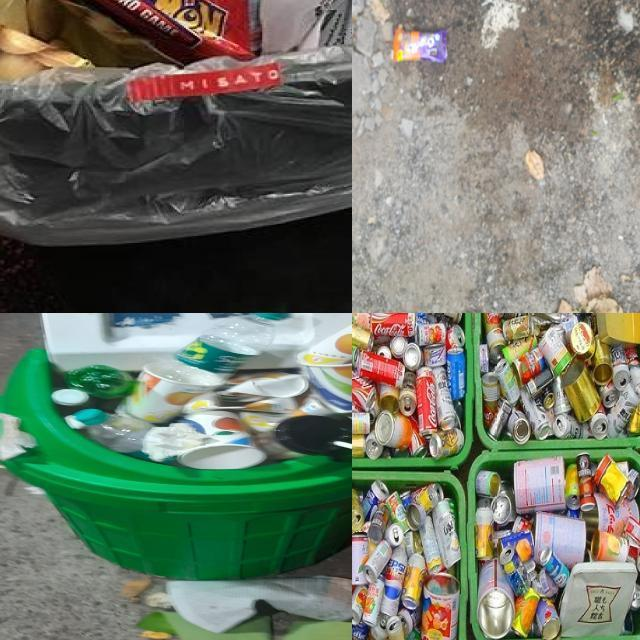Background: (352, 0, 640, 313)
Disposable: (251, 415, 352, 460)
Garbage: (352, 313, 640, 640), (31, 313, 352, 470)
Plastic: (352, 313, 474, 469), (50, 389, 88, 405)
Plastic_Straw: (331, 441, 352, 449)
Plastic_bottle: (155, 313, 290, 386), (71, 410, 159, 462), (65, 365, 136, 399)
Plastic_wraper: (85, 0, 253, 63), (239, 396, 334, 433), (393, 28, 446, 63), (248, 400, 272, 407), (266, 474, 272, 476)
Tin_box: (534, 511, 586, 568), (513, 456, 565, 512), (423, 573, 460, 640), (583, 493, 639, 535), (563, 360, 601, 421), (594, 454, 632, 507), (538, 327, 572, 376), (375, 411, 412, 449), (596, 313, 640, 344), (512, 587, 539, 635), (513, 347, 546, 385), (482, 313, 507, 363), (498, 530, 534, 560), (502, 335, 537, 364), (385, 491, 409, 533), (593, 335, 613, 385), (569, 321, 595, 356), (352, 534, 368, 584), (475, 470, 500, 498), (379, 382, 400, 412), (407, 501, 426, 530), (424, 345, 446, 367), (389, 335, 408, 360), (625, 515, 640, 546), (479, 343, 489, 374), (352, 313, 371, 328)
can: (476, 558, 515, 638), (431, 499, 461, 569), (381, 544, 408, 615), (358, 349, 405, 387), (608, 382, 640, 436), (520, 386, 552, 439), (415, 368, 438, 437), (433, 366, 456, 431), (419, 515, 444, 573), (500, 546, 530, 594), (401, 552, 426, 609), (494, 357, 520, 405), (363, 540, 392, 583), (539, 546, 569, 587), (590, 530, 628, 562), (362, 478, 389, 520), (576, 452, 595, 511), (535, 597, 561, 640), (371, 313, 416, 337), (362, 579, 385, 625), (352, 370, 377, 411), (429, 429, 464, 458), (482, 372, 500, 428), (475, 507, 493, 560), (610, 343, 630, 390), (412, 483, 444, 512), (448, 347, 465, 401), (552, 415, 590, 439), (491, 489, 516, 525), (508, 409, 531, 444), (399, 370, 416, 417), (368, 505, 389, 543), (502, 314, 531, 341), (408, 417, 427, 458), (553, 376, 572, 414), (416, 323, 446, 347), (399, 606, 421, 635), (565, 464, 579, 509), (352, 322, 374, 350), (599, 380, 619, 409), (352, 585, 367, 623), (590, 407, 608, 438), (364, 431, 383, 459), (403, 343, 422, 371), (352, 490, 364, 532), (386, 616, 406, 640), (385, 522, 404, 547), (371, 614, 389, 640), (446, 325, 465, 349), (352, 411, 370, 433), (631, 357, 640, 401), (627, 403, 640, 433), (352, 433, 366, 457), (429, 313, 463, 322), (352, 622, 368, 640), (543, 390, 556, 411), (631, 583, 640, 609), (636, 552, 640, 575)
